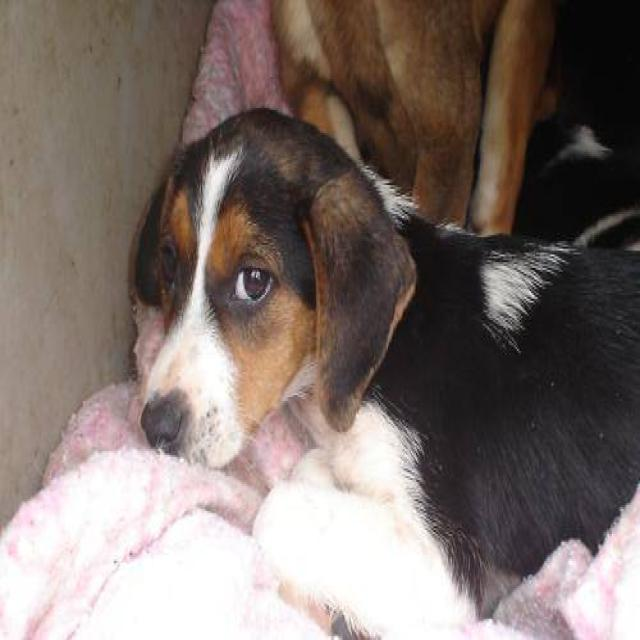dog: (126, 104, 638, 636)
